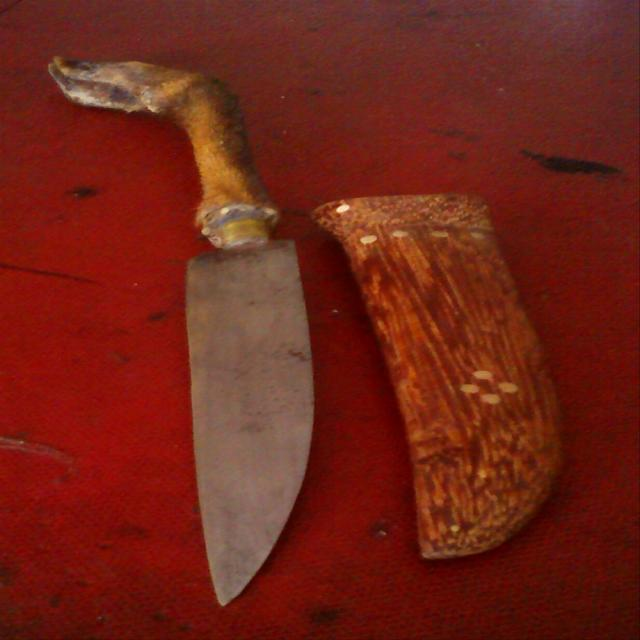Pisau: (48, 39, 348, 622)
